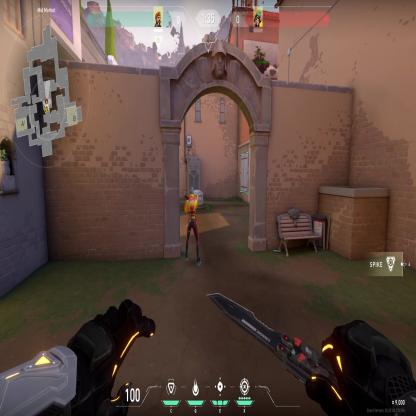enemy: (183, 186, 201, 269)
